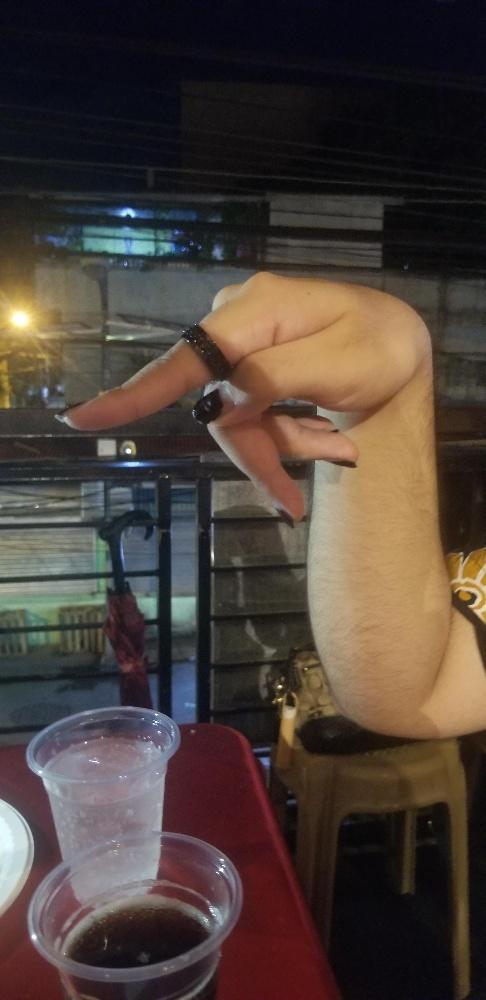p: (59, 276, 428, 518)
